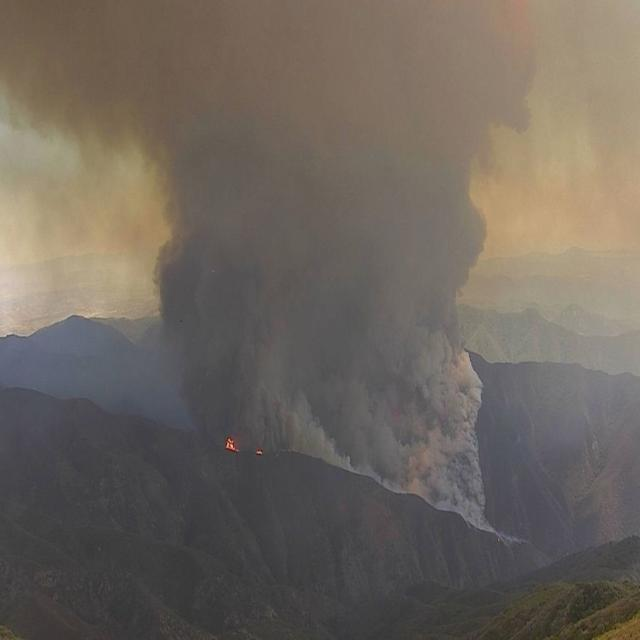Fire: (224, 436, 241, 454)
Smoke: (0, 1, 529, 544)
